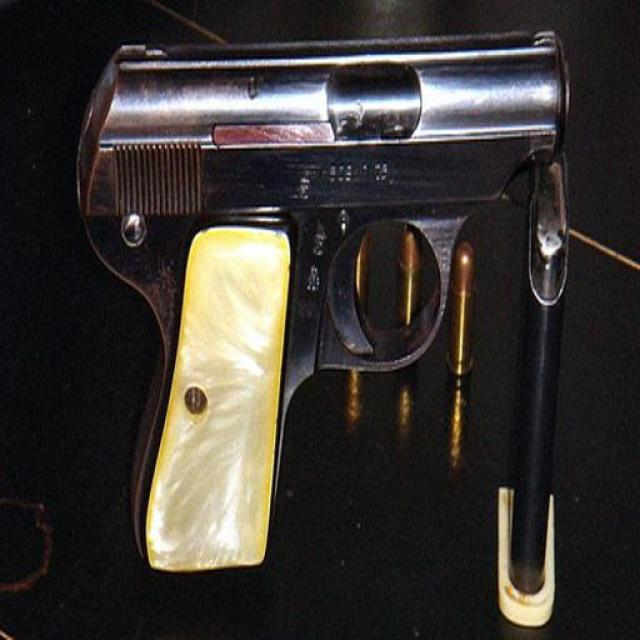pistol: (84, 29, 570, 563)
